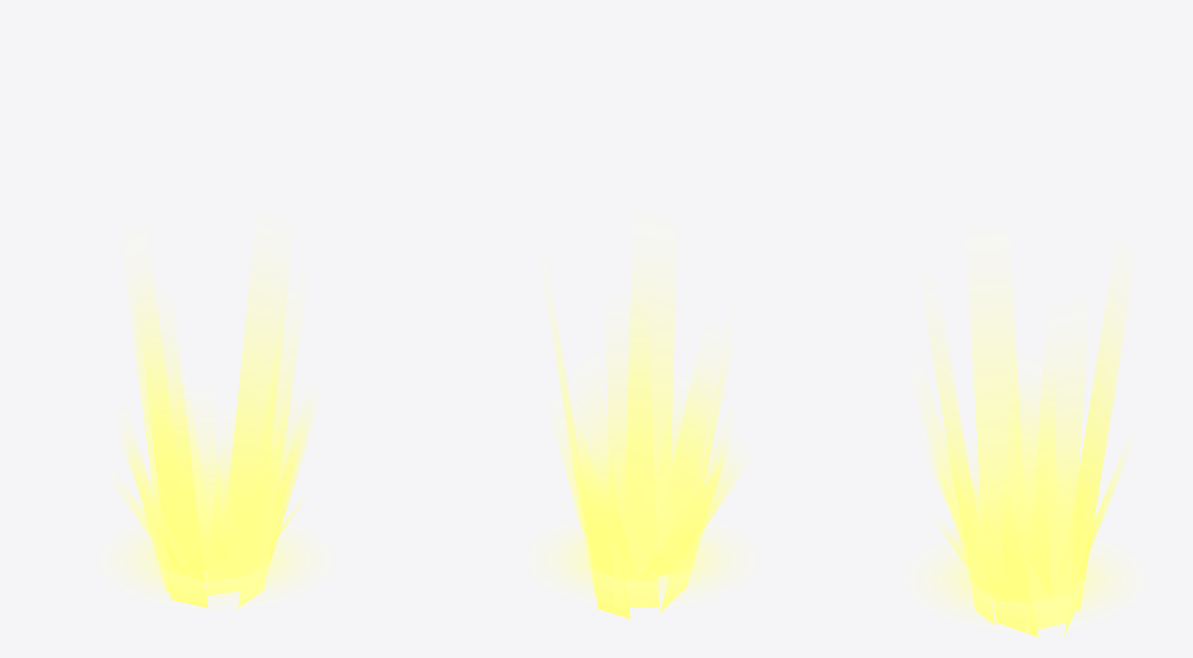
File: level_up_effect.glb
The picture shows the model from 3 angles, left to right: view 1: azimuth 30°, elevation 25°; view 2: azimuth 150°, elevation 25°; view 3: azimuth 270°, elevation 25°; orthographic projection. The views are drawn at different scales.
Parts seen in each view (by area): view 1: bigplanes_3, smallplanes_2, groundglow_0; view 2: bigplanes_3, smallplanes_2, groundglow_0; view 3: bigplanes_3, smallplanes_2, groundglow_0.
Boxes of the visible parts, x1,y1,x2,y2 form: bigplanes_3: [125, 270, 312, 608]; smallplanes_2: [118, 401, 303, 580]; groundglow_0: [118, 532, 312, 601]; bigplanes_3: [549, 270, 730, 618]; smallplanes_2: [554, 402, 741, 582]; groundglow_0: [546, 528, 737, 599]; bigplanes_3: [920, 282, 1125, 637]; smallplanes_2: [928, 425, 1124, 598]; groundglow_0: [924, 548, 1126, 621].
Size of what is drawn, in the model's own units: 2.2 by 4.45 by 2.27.
Materials: 2 (2 with a texture image).
